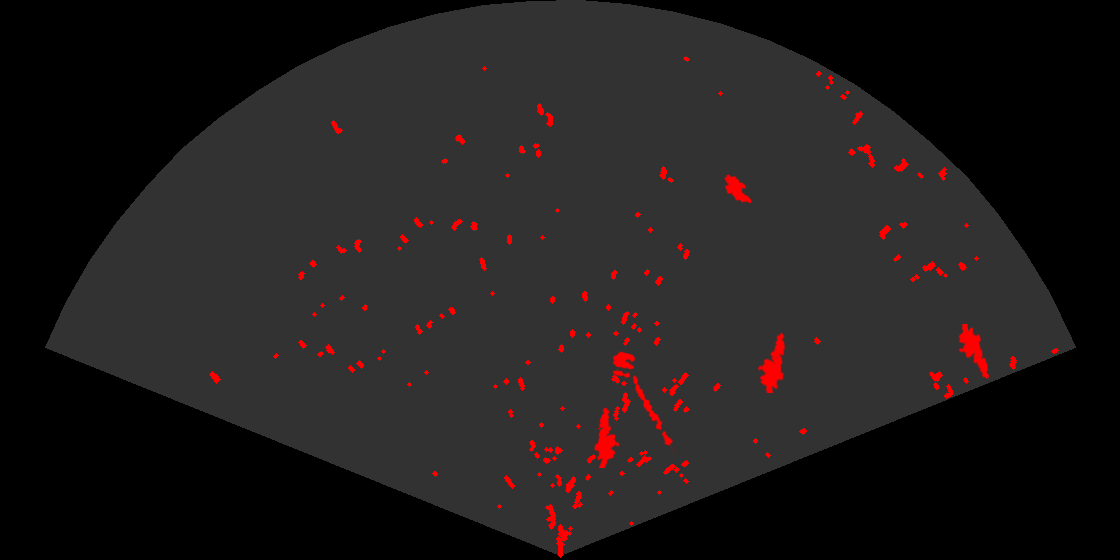AUV: (723, 173, 754, 205)
ball: (611, 350, 637, 379)
chain: (631, 374, 677, 453)
frogman: (756, 330, 787, 393), (957, 324, 991, 380), (593, 406, 621, 468)
